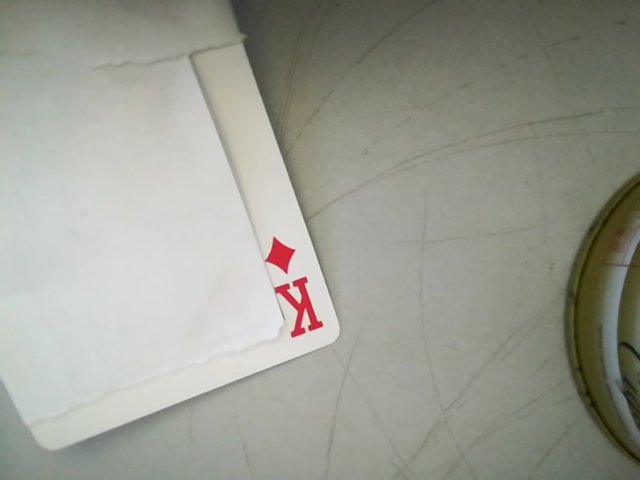fk k: (263, 226, 328, 352)
